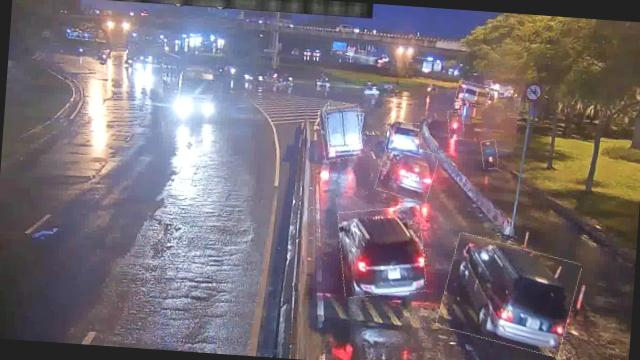Bike: (479, 138, 498, 168), (446, 110, 464, 140)
Bus: (322, 106, 364, 159), (454, 81, 490, 106)
Car: (438, 236, 579, 352), (334, 203, 428, 300), (377, 142, 438, 202), (385, 120, 421, 153)
Truck: (160, 50, 218, 120), (317, 104, 366, 162)
